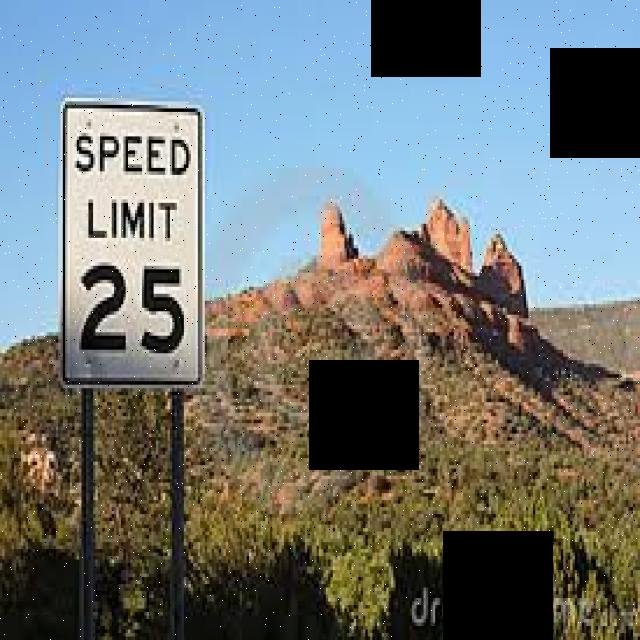regulatory: (54, 95, 212, 393)
